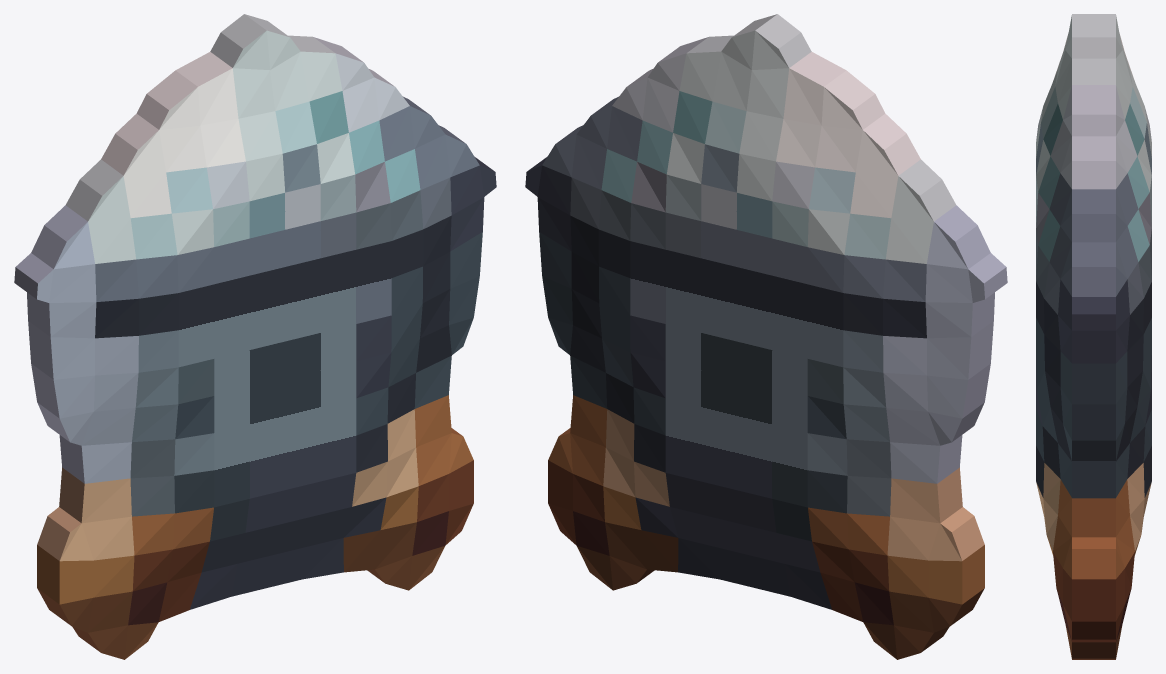
Rendered from ore_filled_mine_cart.glb.
The picture shows the model from 3 angles, left to right: view 1: azimuth 30°, elevation 25°; view 2: azimuth 150°, elevation 25°; view 3: azimuth 270°, elevation 25°; orthographic projection. The views are drawn at different scales.
Parts seen in each view (by area): view 1: ore_filled_mine_cart; view 2: ore_filled_mine_cart; view 3: ore_filled_mine_cart.
Part boxes in pixels (<box>): ore_filled_mine_cart: <box>14,14,496,659</box>; ore_filled_mine_cart: <box>525,14,1007,659</box>; ore_filled_mine_cart: <box>1036,14,1151,659</box>.
Bounding box in the file's own units: 0.809 × 1 × 0.1813.
Materials: 1 (1 with a texture image).
